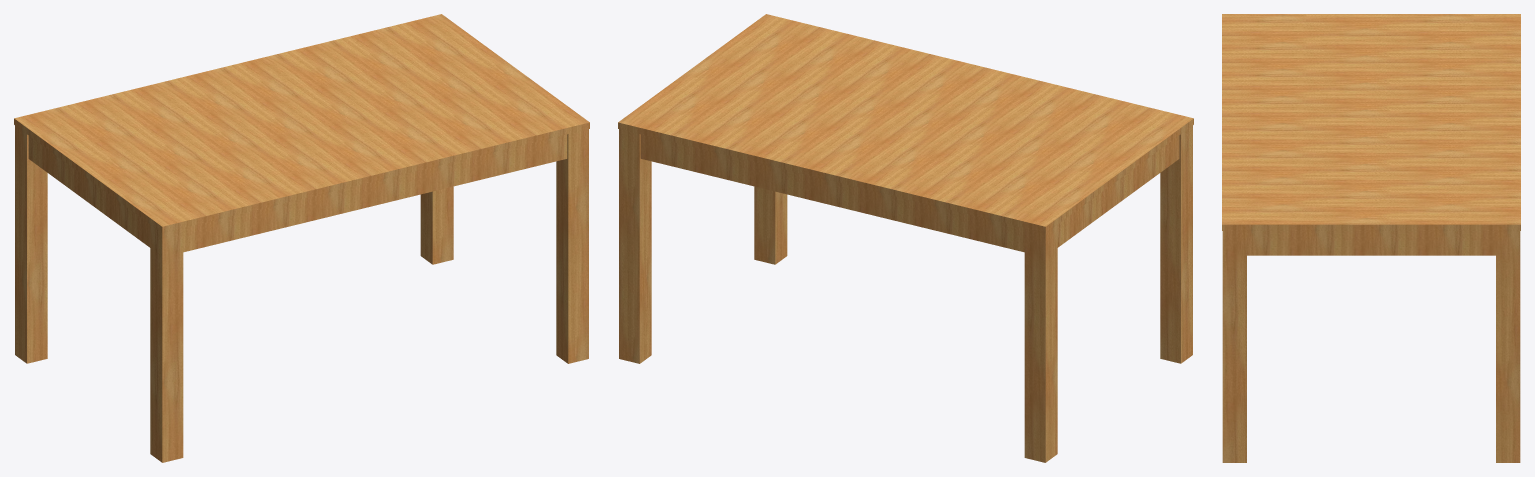
The model's file is table.dae.
3 renders of one model, left to right at view 1: azimuth 30°, elevation 25°; view 2: azimuth 150°, elevation 25°; view 3: azimuth 270°, elevation 25°, orthographic.
Parts seen in each view (by area): view 1: SketchUp (×2); view 2: SketchUp (×2); view 3: SketchUp (×2).
Part boxes in pixels (x1=…): SketchUp (×2): x1=14, y1=14, x2=589, y2=462; SketchUp (×2): x1=618, y1=14, x2=1193, y2=462; SketchUp (×2): x1=1222, y1=14, x2=1520, y2=462.
Size of the model in its own units: 55.12 by 33.07 by 29.13.
Materials: 2 (1 with a texture image).
